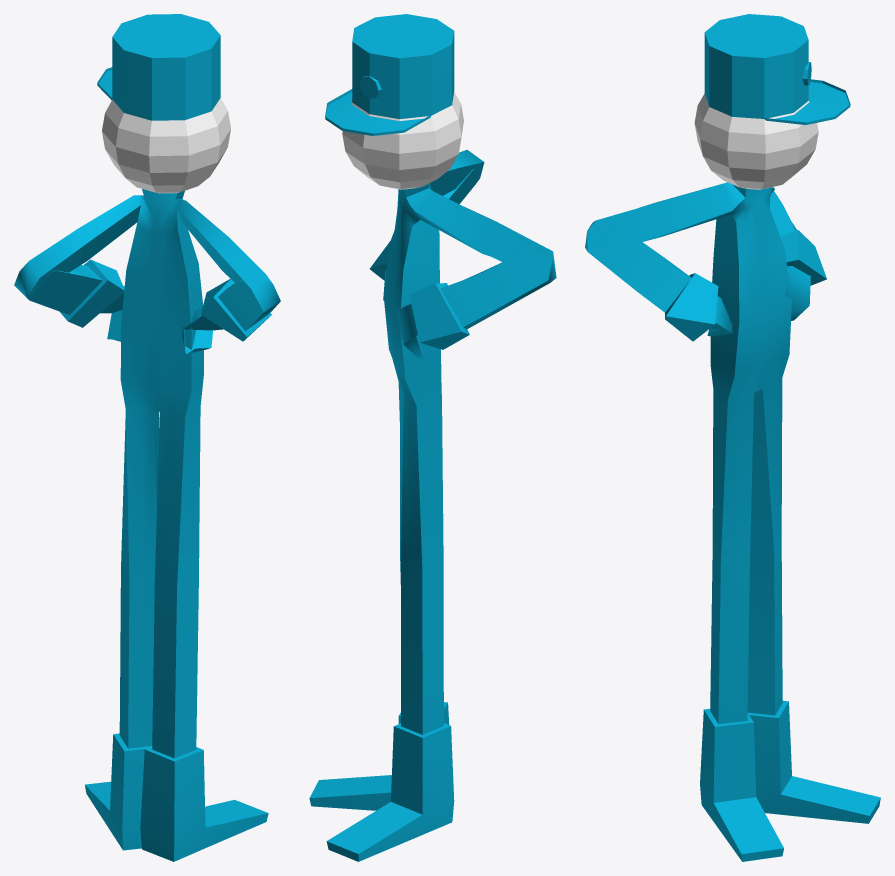
File: cops.fbx
The picture shows the model from 3 angles, left to right: view 1: azimuth 30°, elevation 25°; view 2: azimuth 150°, elevation 25°; view 3: azimuth 270°, elevation 25°; orthographic projection. The views are drawn at different scales.
Parts seen in each view (by area): view 1: copbody, cophat, cophead; view 2: copbody, cophat, cophead; view 3: copbody, cophat, cophead.
Part boxes in pixels (x1,y1,x2,y2): copbody: [14, 189, 280, 861]; cophat: [97, 14, 220, 120]; cophead: [102, 98, 230, 193]; copbody: [309, 150, 556, 861]; cophat: [325, 14, 454, 135]; cophead: [342, 92, 463, 189]; copbody: [585, 182, 880, 861]; cophat: [704, 14, 850, 124]; cophead: [694, 94, 818, 189].
Bounding box in the file's own units: 2.09 × 6.54 × 2.24.
